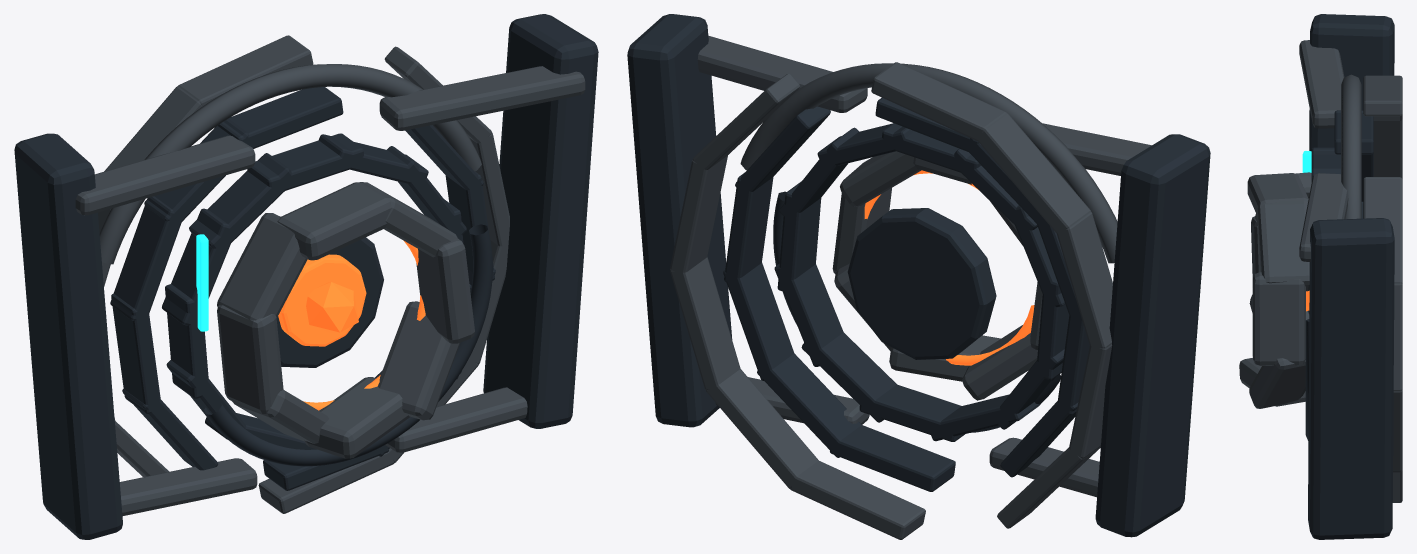
The model's file is crown-front-reactor.glb.
The picture shows the model from 3 angles, left to right: view 1: azimuth 30°, elevation 25°; view 2: azimuth 150°, elevation 25°; view 3: azimuth 270°, elevation 25°; orthographic projection. The views are drawn at different scales.
Visible parts, largest first — view 1: BC_ENV_CROWN_FRONT_REACTOR_BLACK_TITANIUM, BC_ENV_CROWN_FRONT_REACTOR_GUNMETAL, BC_ENV_CROWN_FRONT_REACTOR_TACTICAL_ORANGE, BC_ENV_CROWN_FRONT_REACTOR_CYAN_ENERGY; view 2: BC_ENV_CROWN_FRONT_REACTOR_BLACK_TITANIUM, BC_ENV_CROWN_FRONT_REACTOR_GUNMETAL, BC_ENV_CROWN_FRONT_REACTOR_TACTICAL_ORANGE; view 3: BC_ENV_CROWN_FRONT_REACTOR_BLACK_TITANIUM, BC_ENV_CROWN_FRONT_REACTOR_GUNMETAL, BC_ENV_CROWN_FRONT_REACTOR_CYAN_ENERGY.
Part boxes in pixels (x1,y1,x2,y2): BC_ENV_CROWN_FRONT_REACTOR_BLACK_TITANIUM: (14,14,598,539); BC_ENV_CROWN_FRONT_REACTOR_GUNMETAL: (75,35,585,515); BC_ENV_CROWN_FRONT_REACTOR_TACTICAL_ORANGE: (278,240,425,410); BC_ENV_CROWN_FRONT_REACTOR_CYAN_ENERGY: (196,234,208,331); BC_ENV_CROWN_FRONT_REACTOR_BLACK_TITANIUM: (627,14,1210,537); BC_ENV_CROWN_FRONT_REACTOR_GUNMETAL: (670,35,1151,539); BC_ENV_CROWN_FRONT_REACTOR_TACTICAL_ORANGE: (864,170,1034,365); BC_ENV_CROWN_FRONT_REACTOR_BLACK_TITANIUM: (1305,14,1394,539); BC_ENV_CROWN_FRONT_REACTOR_GUNMETAL: (1239,40,1402,502); BC_ENV_CROWN_FRONT_REACTOR_CYAN_ENERGY: (1302,151,1311,172).
Size of the model in its own units: 9.31 by 7.41 by 2.83.
